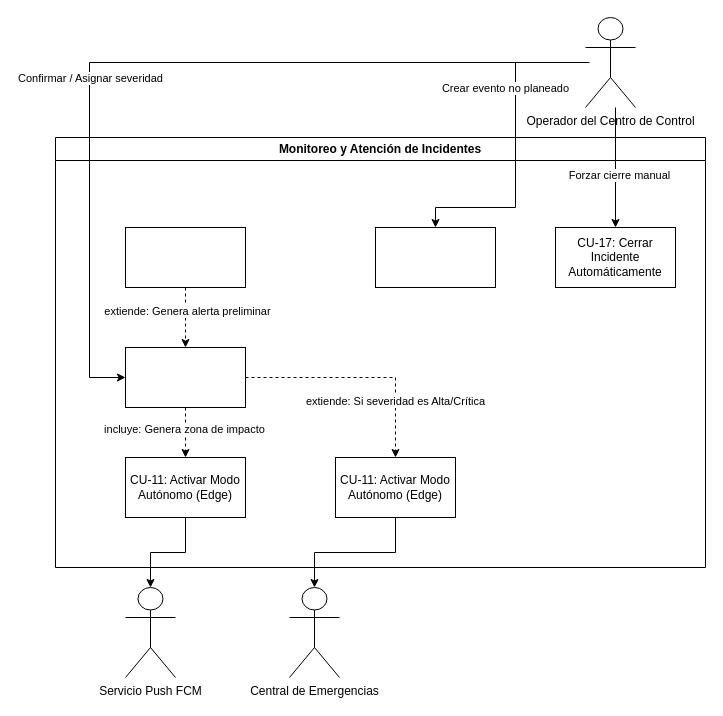
The diagram is 723 pixels wide and 716 high, and some of its shapes have lost their labels. Here are the shapes that lost their labels. From the top down, the box of each, then its label:
(124, 226, 246, 288): CU-12: Detectar Anomalía / Congestión CEP
(374, 226, 496, 288): CU-13: Registrar Incidente Manualmente
(124, 346, 246, 408): CU-14: Validar y Clasificar Incidente
